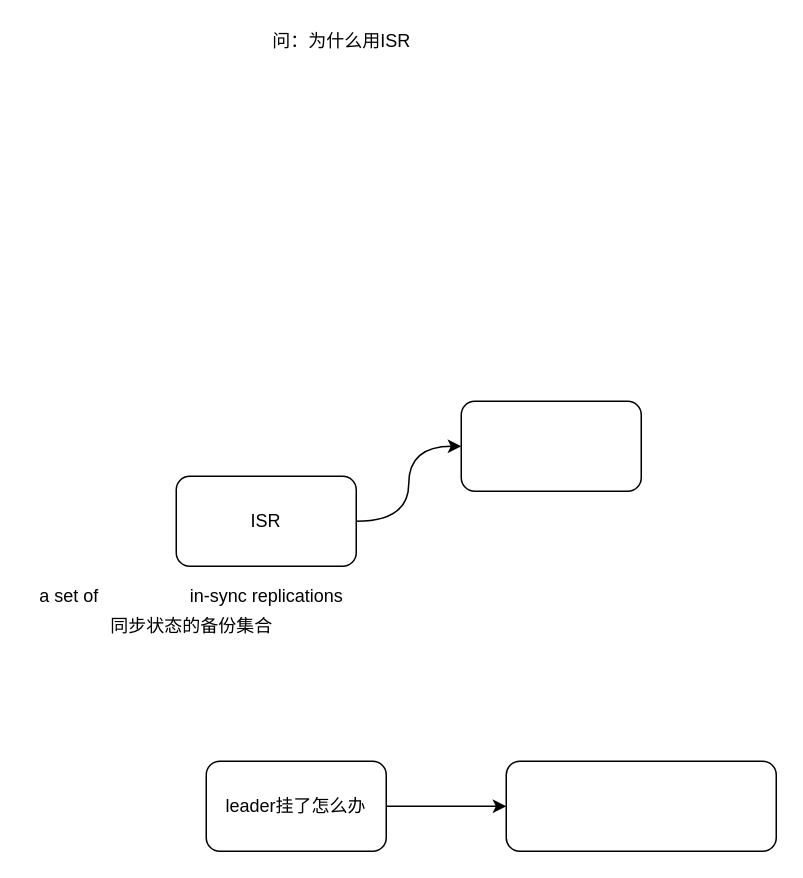
The diagram is 803 pixels wide and 878 high, and some of its shapes have lost their labels. Here are the shapes that lost their labels. From the top down, the centre of each, then its label:
At (x=550, y=445): "作用：选举leader".
At (x=640, y=805): "follower有可能都不可靠".
